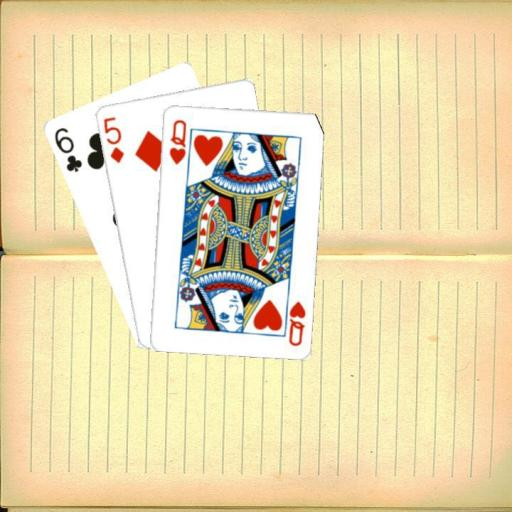5D: (100, 113, 125, 164)
6C: (51, 124, 83, 174)
QH: (280, 291, 307, 347), (166, 116, 187, 166)
